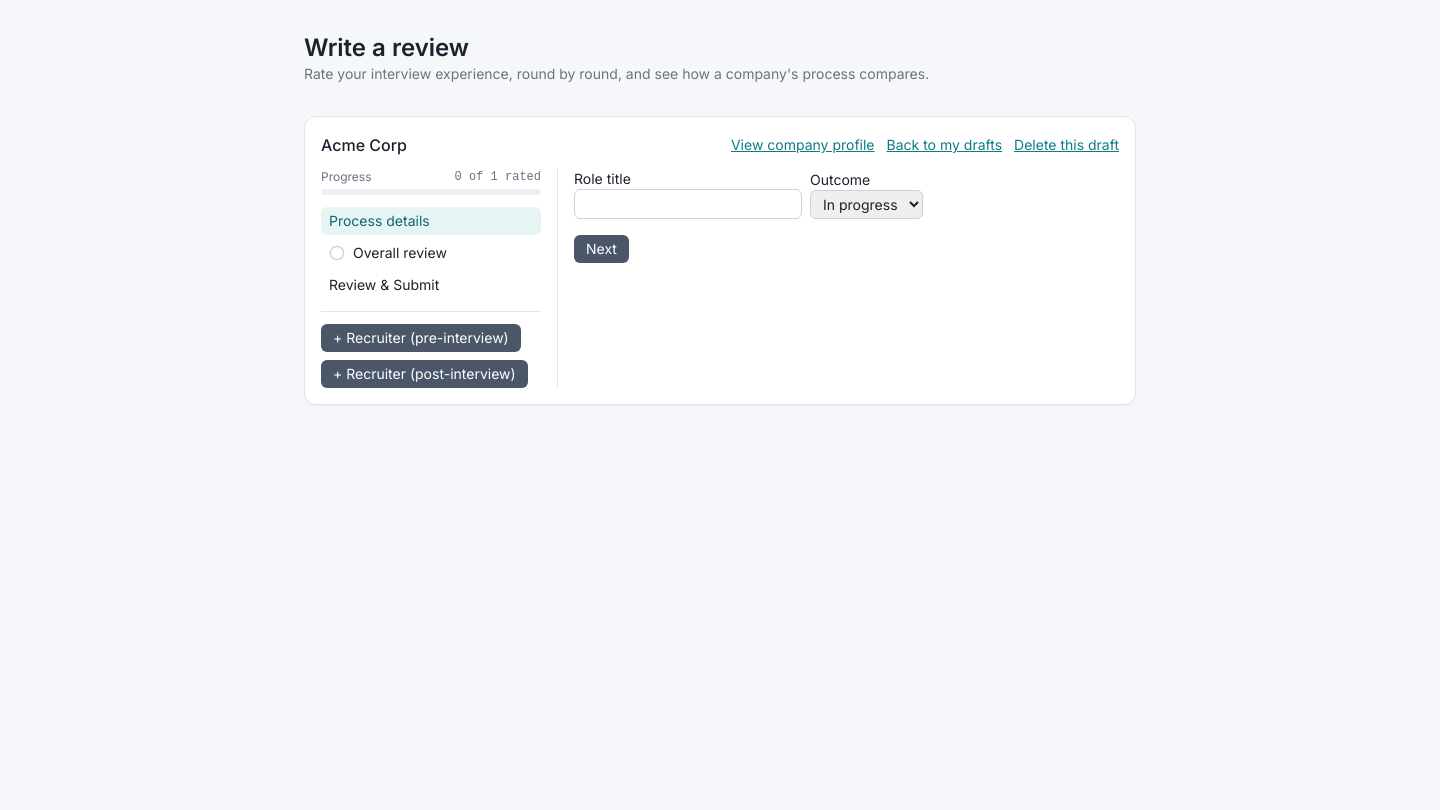
it: Non-blocking recruiter-touchpoint reminders on submit (GitHub issue #307) › "+ Add now" creates the missing touchpoint with the right timing and jumps straight into editing it
This screenshot has width=1440, height=810.
expect the heading "Acme Corp" is shown: met, box [321,133,407,157]
Type "Backend Engineer" into the field labelled "Role title" at (688, 204), box [574,189,802,219]
Click the button "Next" at (601, 249), box [574,235,629,263]
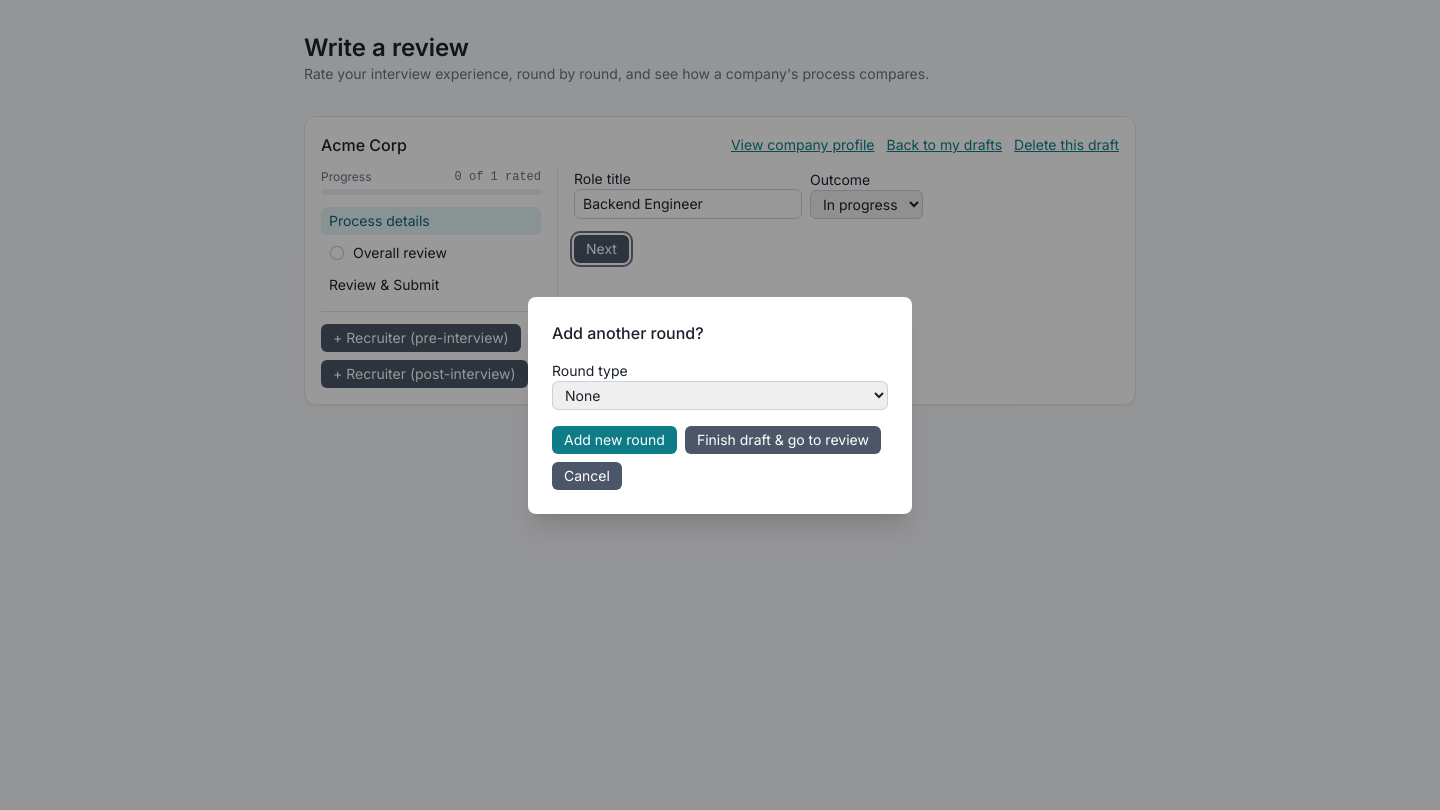
Select "Coding" in the dropdown labelled "Round type" at (720, 395), box [552,380,888,410]
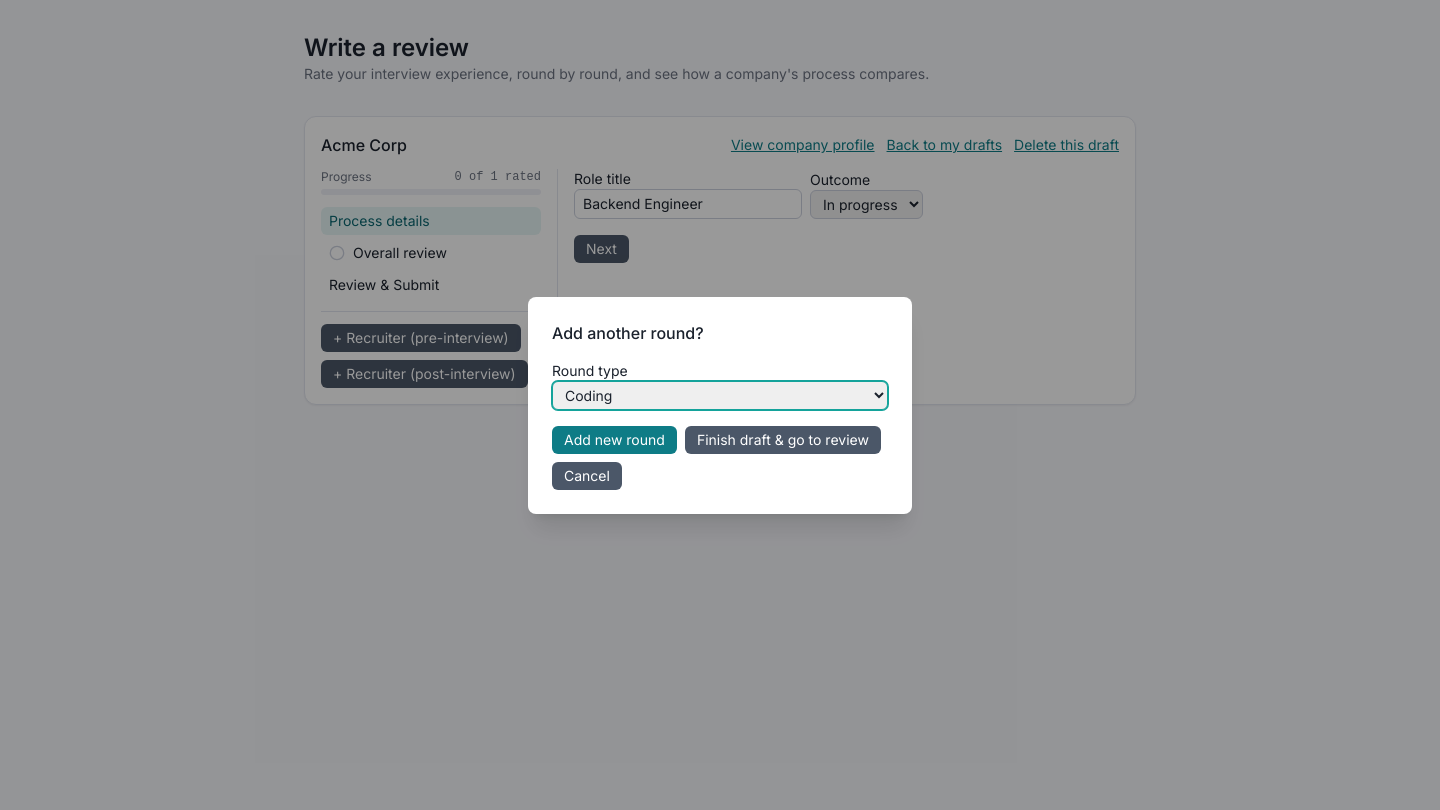
Click the button "Add new round" at (614, 440), box [552,426,677,454]
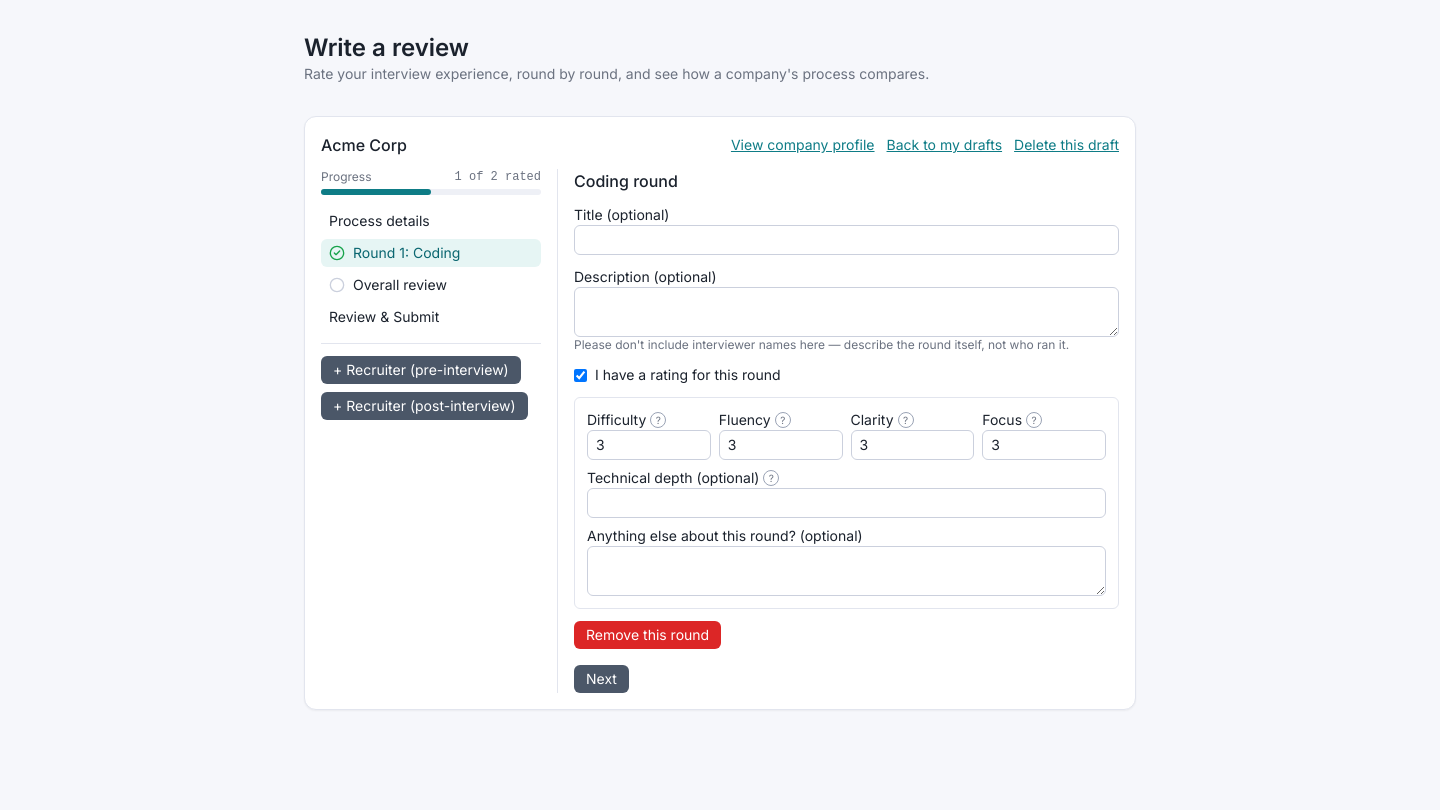
Type "Screen" into the field labelled "Title (optional)" at (846, 240), box [574,225,1119,255]
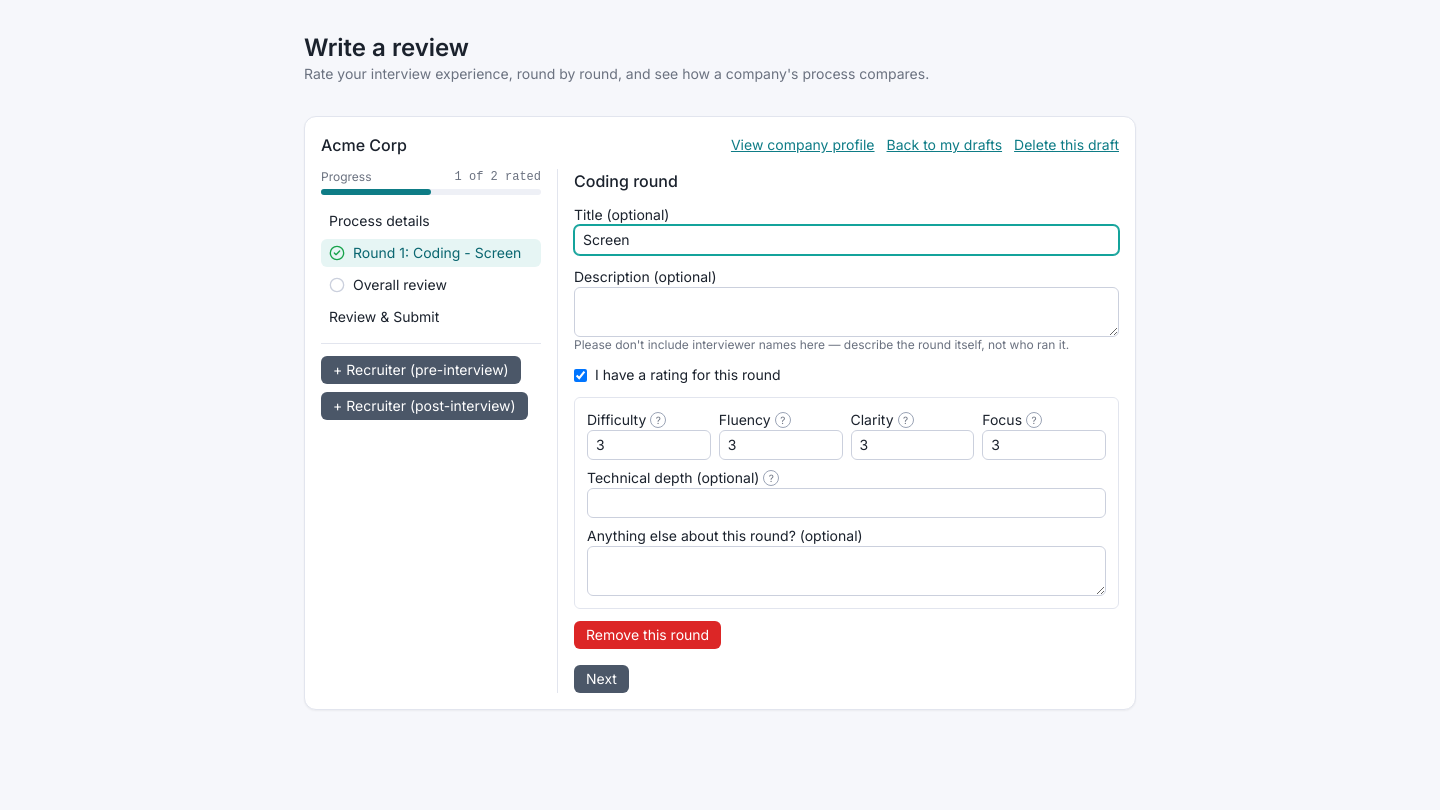
Click the button "Review & Submit" at (431, 317), box [321,303,541,331]
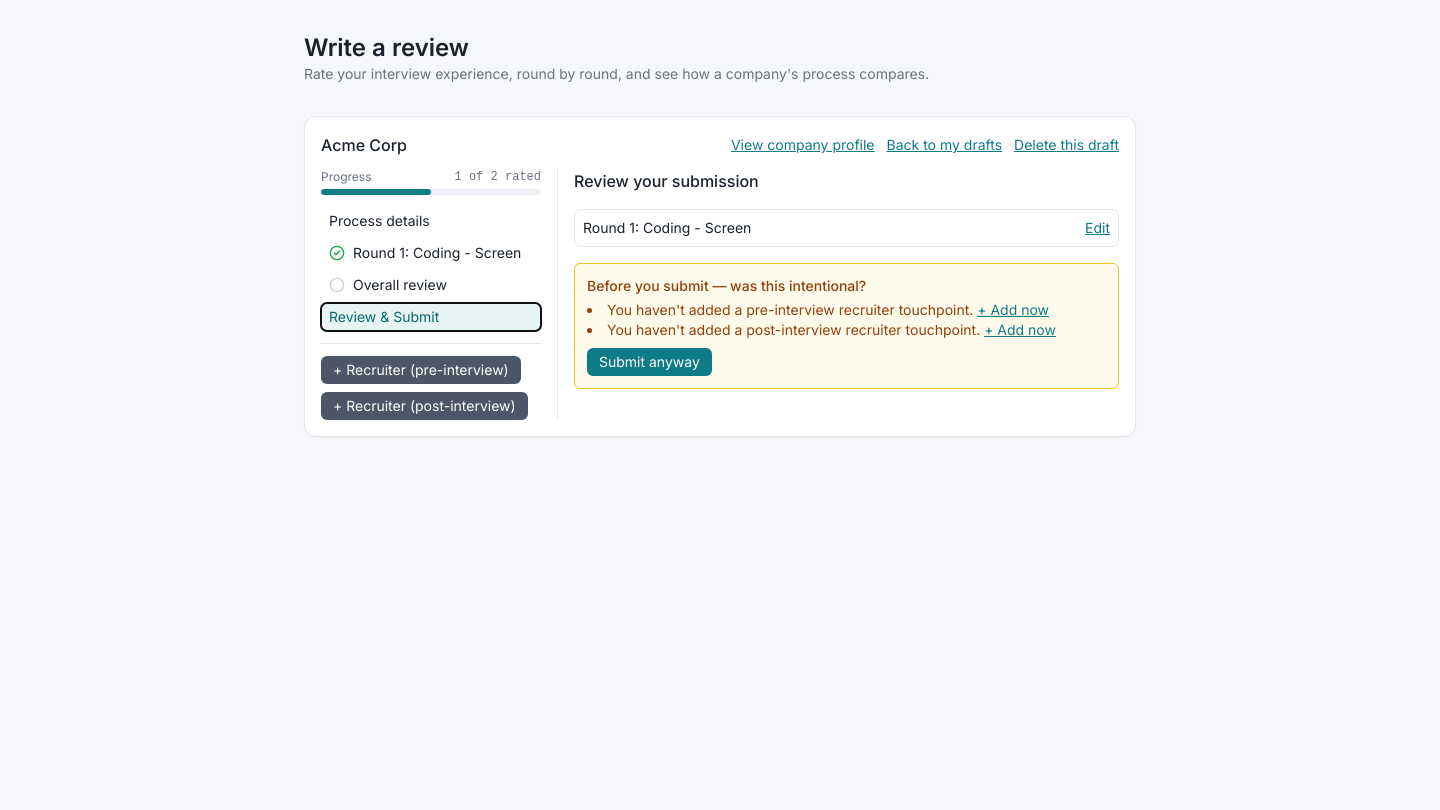
expect the text "Before you submit — was this intentional?" is shown: met, box [587,277,866,294]
Click the 1st button "+ Add now" at (1013, 310), box [977,300,1049,320]
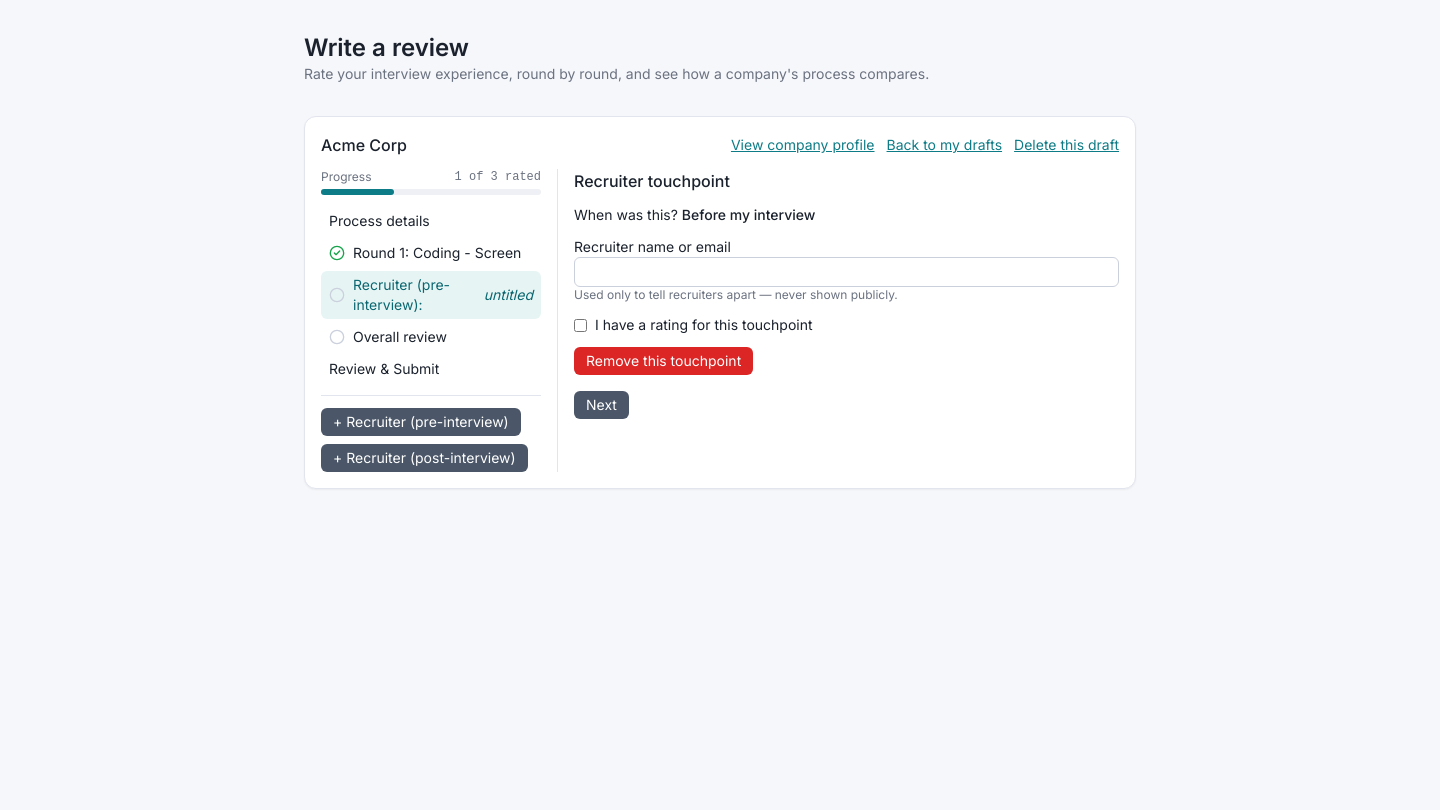
expect the heading "Recruiter touchpoint" is shown: met, box [574,171,730,191]
expect the text "Before my interview" is shown: met, box [682,206,815,223]
